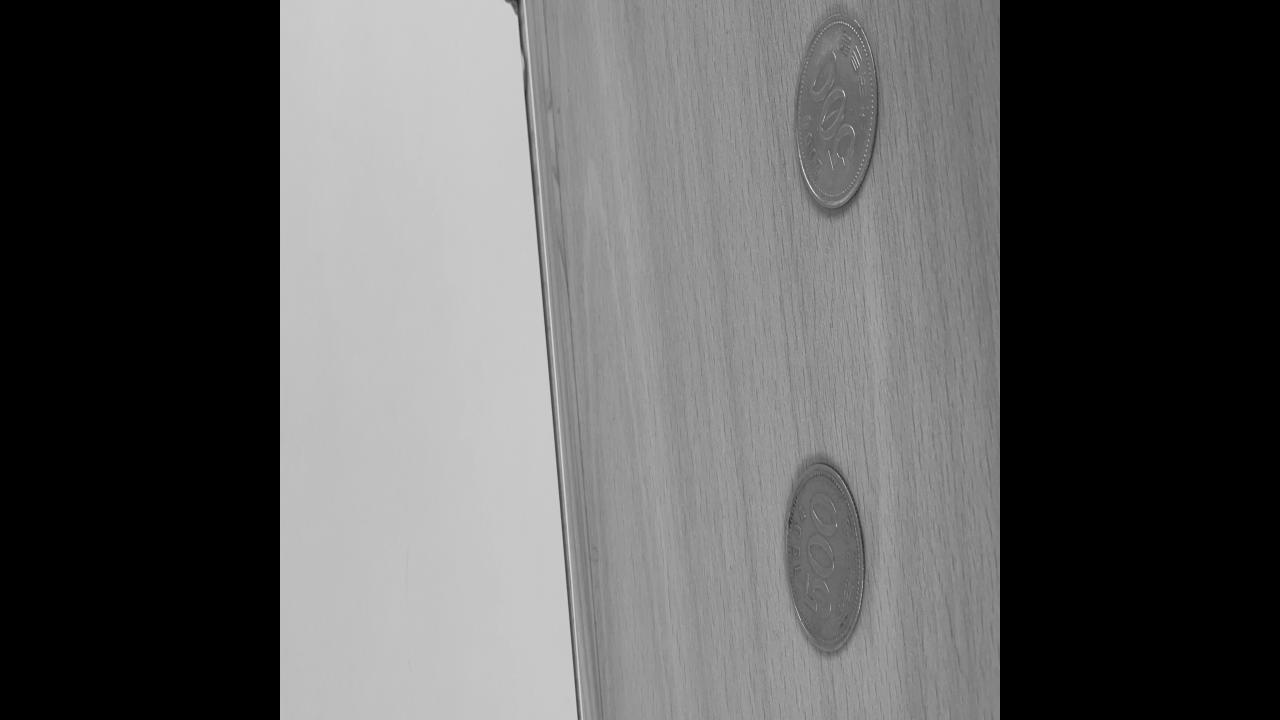coin: (792, 6, 879, 210), (784, 461, 866, 656)
